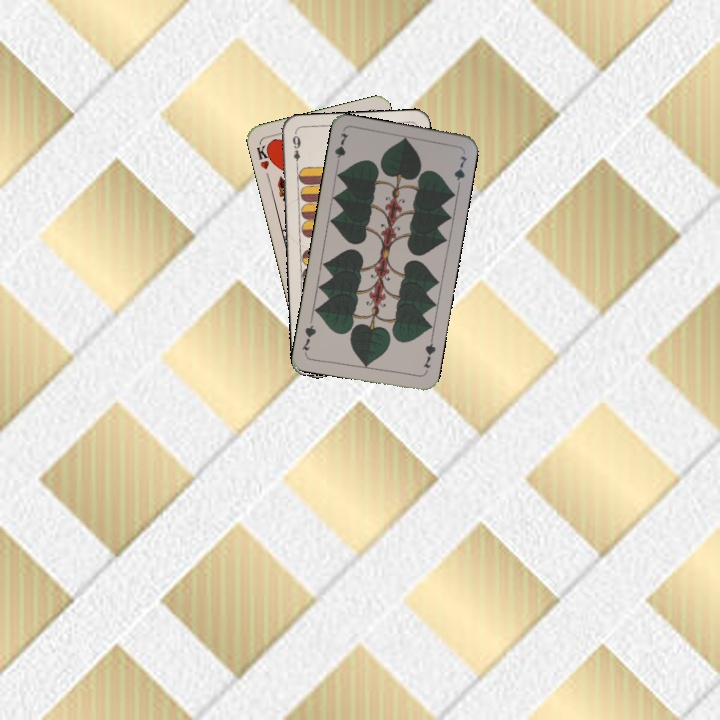E9: (288, 130, 303, 170)
G7: (331, 129, 351, 169), (419, 335, 438, 370)
HK: (253, 139, 276, 172)
